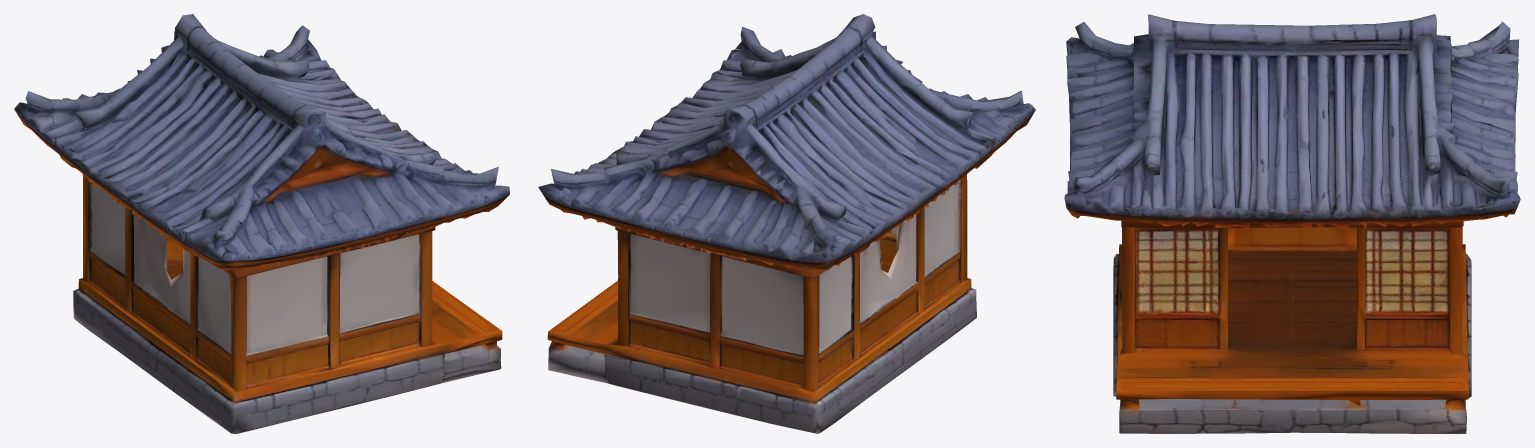
The model's file is house.glb.
The picture shows the model from 3 angles, left to right: view 1: azimuth 30°, elevation 25°; view 2: azimuth 150°, elevation 25°; view 3: azimuth 270°, elevation 25°; orthographic projection. The views are drawn at different scales.
Visible parts, largest first — view 1: tripo_node_9fd5b97c-1110-4cf2-92a3-2371f7687f44; view 2: tripo_node_9fd5b97c-1110-4cf2-92a3-2371f7687f44; view 3: tripo_node_9fd5b97c-1110-4cf2-92a3-2371f7687f44.
Part boxes in pixels (box(x1,y1,x2,y2)): tripo_node_9fd5b97c-1110-4cf2-92a3-2371f7687f44: box(14, 14, 509, 433); tripo_node_9fd5b97c-1110-4cf2-92a3-2371f7687f44: box(538, 14, 1035, 433); tripo_node_9fd5b97c-1110-4cf2-92a3-2371f7687f44: box(1064, 14, 1520, 433).
Bounding box in the file's own units: 0.8645 × 0.7883 × 1.
1 material, 1 textured.
